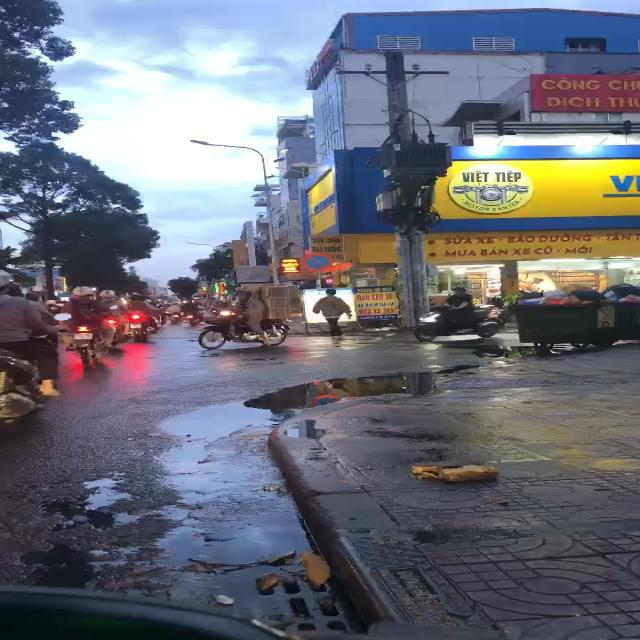Bien bao cam do xe: (301, 252, 336, 273)
